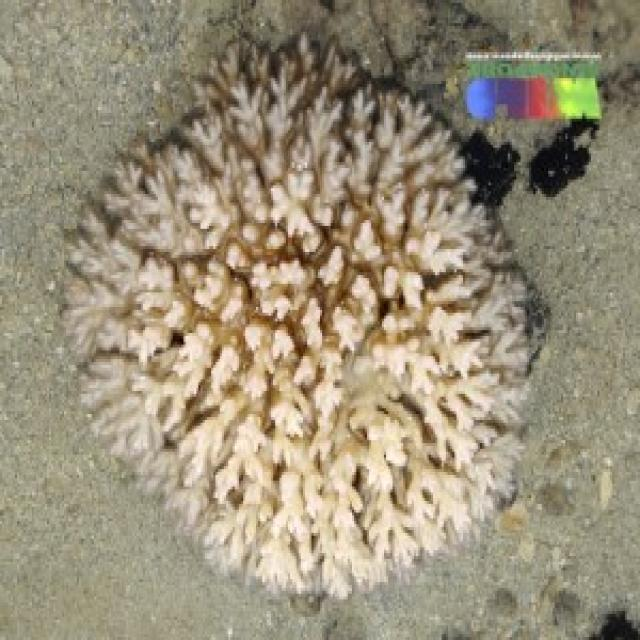Bleached: (70, 38, 539, 591)
